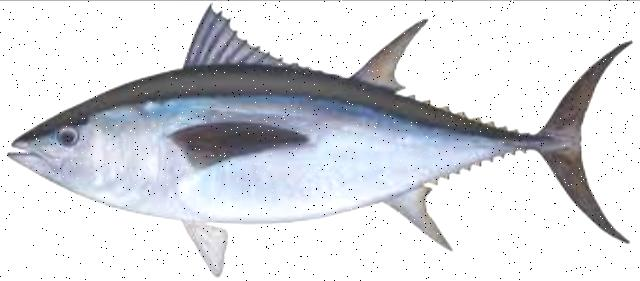Mulut: (6, 128, 38, 180)
Sirip Anal: (385, 181, 467, 261)
Sirip Dada: (168, 113, 314, 165)
Sirip Ekor: (529, 30, 635, 252)
Sirip Perut: (178, 215, 236, 276)
Sirip Punggung: (173, 0, 444, 98)
